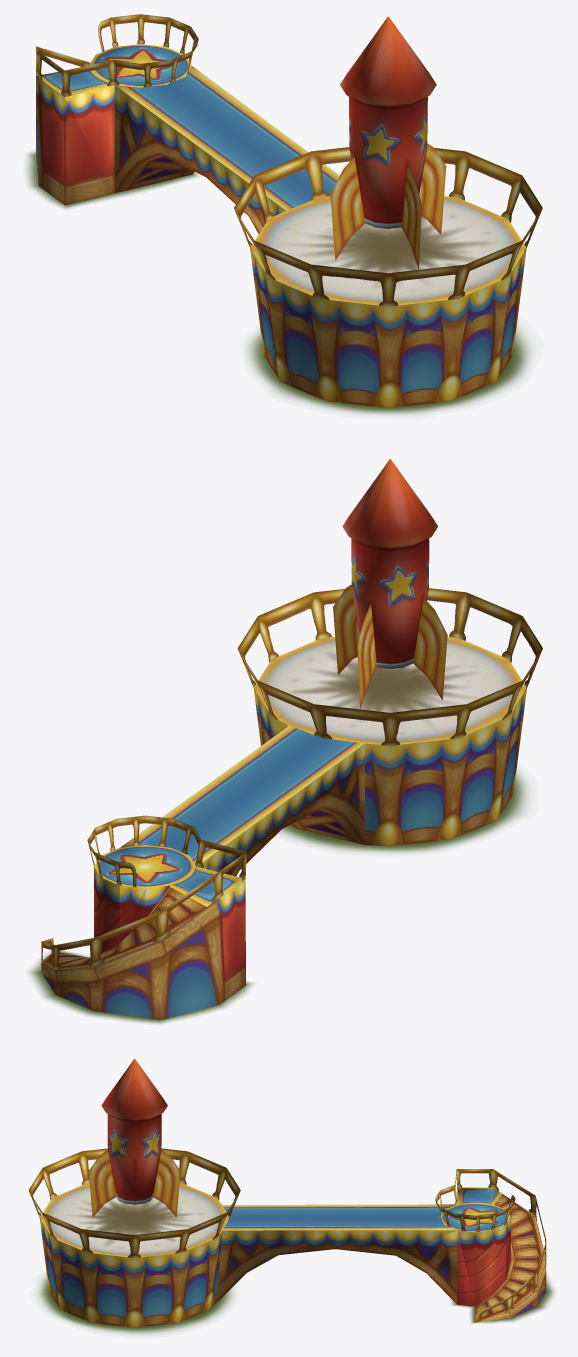
The model's file is fireworks.glb.
3 renders of one model, top to bottom at view 1: azimuth 30°, elevation 25°; view 2: azimuth 150°, elevation 25°; view 3: azimuth 270°, elevation 25°, orthographic. The views are drawn at different scales.
Parts seen in each view (by area): view 1: launchPad_mesh, joint1, launchPad_stairs, launchPad_shadow1, rocket_railing_4, rocket_railing_2, rocket_railing_3, rocket_railing_1, launchPad_railing2, launchPad_shadow2, railing_3, railing_1; view 2: launchPad_mesh, launchPad_stairs, joint1, rocket_railing_3, launchPad_shadow1, launchPad_railing2, rocket_railing_1, rocket_railing_4, launchPad_shadow2, rocket_railing_2, railing_2; view 3: launchPad_mesh, launchPad_stairs, joint1, launchPad_shadow1, launchPad_railing2, rocket_railing_3, rocket_railing_4, rocket_railing_2, rocket_railing_1, launchPad_shadow2.
Part boxes in pixels (<box>): launchPad_mesh: <box>114,66,526,408</box>; joint1: <box>330,16,446,269</box>; launchPad_stairs: <box>36,44,191,205</box>; launchPad_shadow1: <box>248,325,530,414</box>; rocket_railing_4: <box>255,241,465,306</box>; rocket_railing_2: <box>311,147,521,218</box>; rocket_railing_3: <box>234,151,318,275</box>; rocket_railing_1: <box>457,175,542,298</box>; launchPad_railing2: <box>36,46,114,97</box>; launchPad_shadow2: <box>27,150,198,208</box>; railing_3: <box>111,14,190,54</box>; railing_1: <box>113,60,169,87</box>; launchPad_mesh: <box>120,636,526,876</box>; launchPad_stairs: <box>41,845,245,1019</box>; joint1: <box>333,458,447,708</box>; rocket_railing_3: <box>314,680,522,745</box>; launchPad_shadow1: <box>279,771,527,852</box>; launchPad_railing2: <box>41,839,246,970</box>; rocket_railing_1: <box>258,588,466,658</box>; rocket_railing_4: <box>458,592,542,715</box>; launchPad_shadow2: <box>28,950,253,1023</box>; rocket_railing_2: <box>237,616,321,737</box>; railing_2: <box>95,815,174,851</box>; launchPad_mesh: <box>39,1183,457,1327</box>; launchPad_stairs: <box>439,1187,546,1322</box>; joint1: <box>88,1058,180,1217</box>; launchPad_shadow1: <box>38,1274,233,1334</box>; launchPad_railing2: <box>455,1169,546,1322</box>; rocket_railing_3: <box>161,1148,240,1217</box>; rocket_railing_4: <box>28,1148,107,1216</box>; rocket_railing_2: <box>134,1191,240,1257</box>; rocket_railing_1: <box>29,1191,134,1257</box>; launchPad_shadow2: <box>451,1277,554,1323</box>.
Size of the model in its own units: 26.97 by 28.78 by 61.46.
7 materials, 7 textured.
